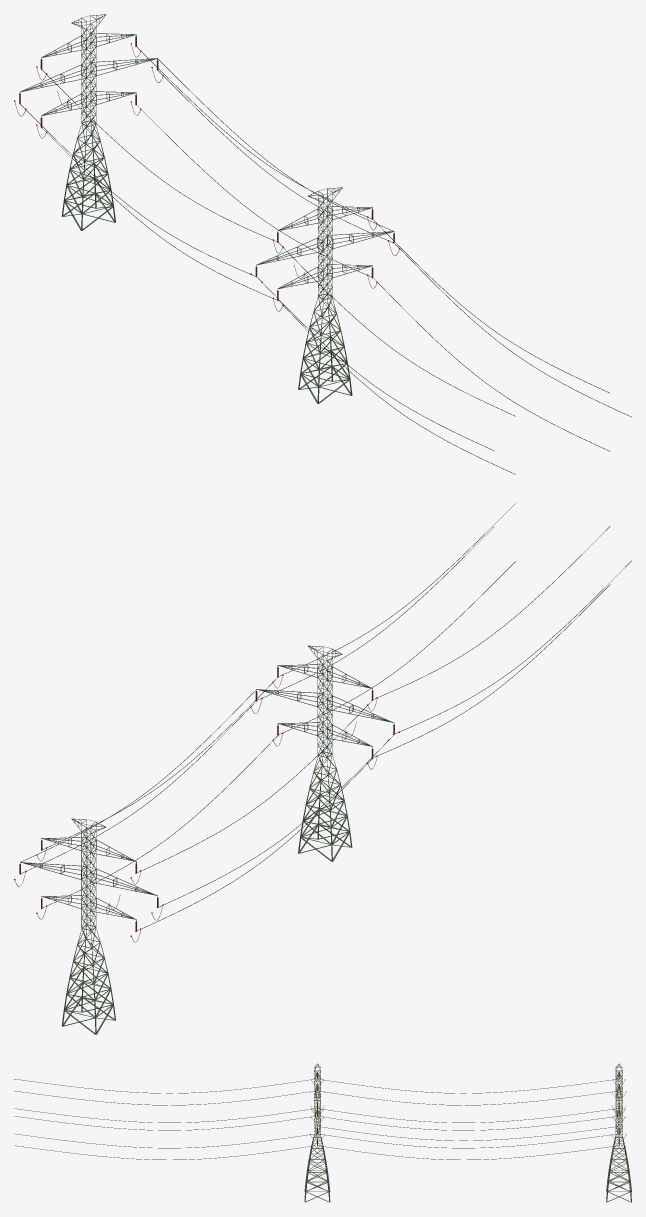
The model's file is power_lines_high_voltage_electricity.glb.
3 renders of one model, top to bottom at view 1: azimuth 30°, elevation 25°; view 2: azimuth 150°, elevation 25°; view 3: azimuth 270°, elevation 25°, orthographic. The views are drawn at different scales.
Visible parts, largest first — view 1: Power_Lines; view 2: Power_Lines; view 3: Power_Lines.
Part boxes in pixels (left/top/right/bottom): Power_Lines: left=14, top=14, right=631, bottom=474; Power_Lines: left=14, top=503, right=631, bottom=1034; Power_Lines: left=14, top=1063, right=631, bottom=1202.
Size of the model in its own units: 10.43 by 14.4 by 62.86.
